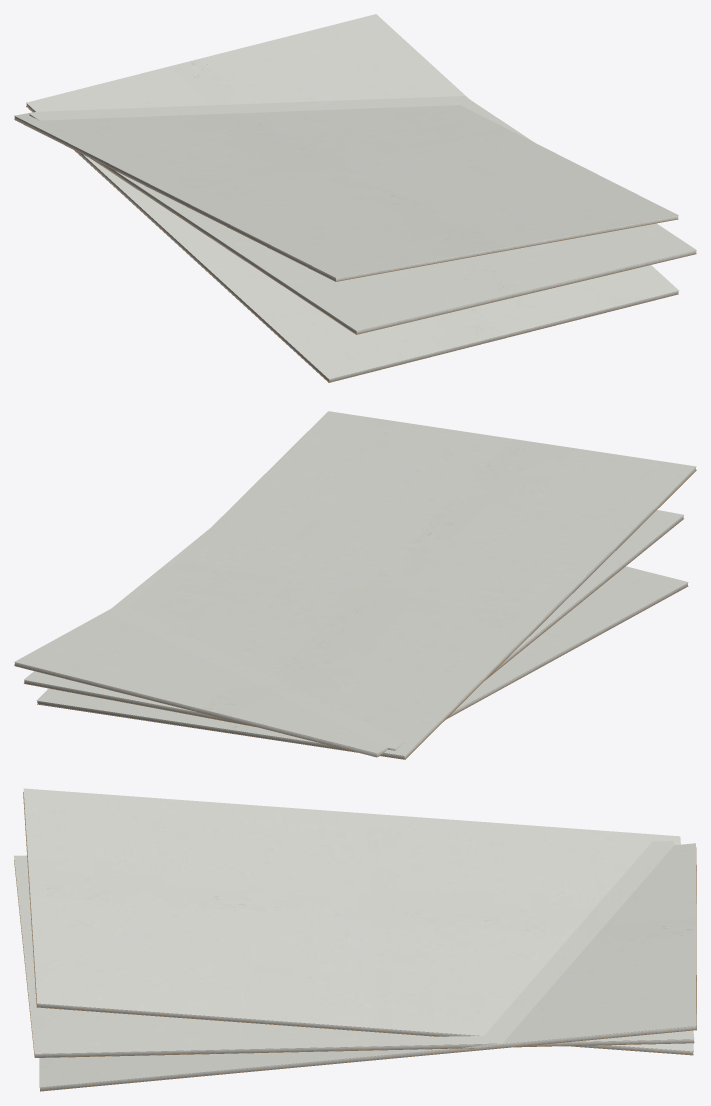
Rendered from ALV-DRY-001_anim.glb.
3 renders of one model, top to bottom at view 1: azimuth 30°, elevation 25°; view 2: azimuth 150°, elevation 25°; view 3: azimuth 270°, elevation 25°, orthographic. The views are drawn at different scales.
Parts seen in each view (by area): view 1: ALV-DRY-001_anim2, ALV-DRY-001_anim0, ALV-DRY-001_anim1; view 2: ALV-DRY-001_anim2, ALV-DRY-001_anim0, ALV-DRY-001_anim1; view 3: ALV-DRY-001_anim2, ALV-DRY-001_anim0, ALV-DRY-001_anim1.
Boxes of the visible parts, left/top/right/bottom form: ALV-DRY-001_anim2: left=14, top=105, right=678, bottom=281; ALV-DRY-001_anim0: left=26, top=14, right=678, bottom=382; ALV-DRY-001_anim1: left=29, top=96, right=696, bottom=334; ALV-DRY-001_anim2: left=36, top=411, right=696, bottom=759; ALV-DRY-001_anim0: left=14, top=566, right=688, bottom=757; ALV-DRY-001_anim1: left=24, top=510, right=683, bottom=750; ALV-DRY-001_anim2: left=23, top=788, right=693, bottom=1055; ALV-DRY-001_anim0: left=39, top=843, right=696, bottom=1091; ALV-DRY-001_anim1: left=14, top=841, right=694, bottom=1057.
Bounding box in the file's own units: 1.32 × 0.3614 × 1.86.
Materials: 3 (3 with a texture image).
